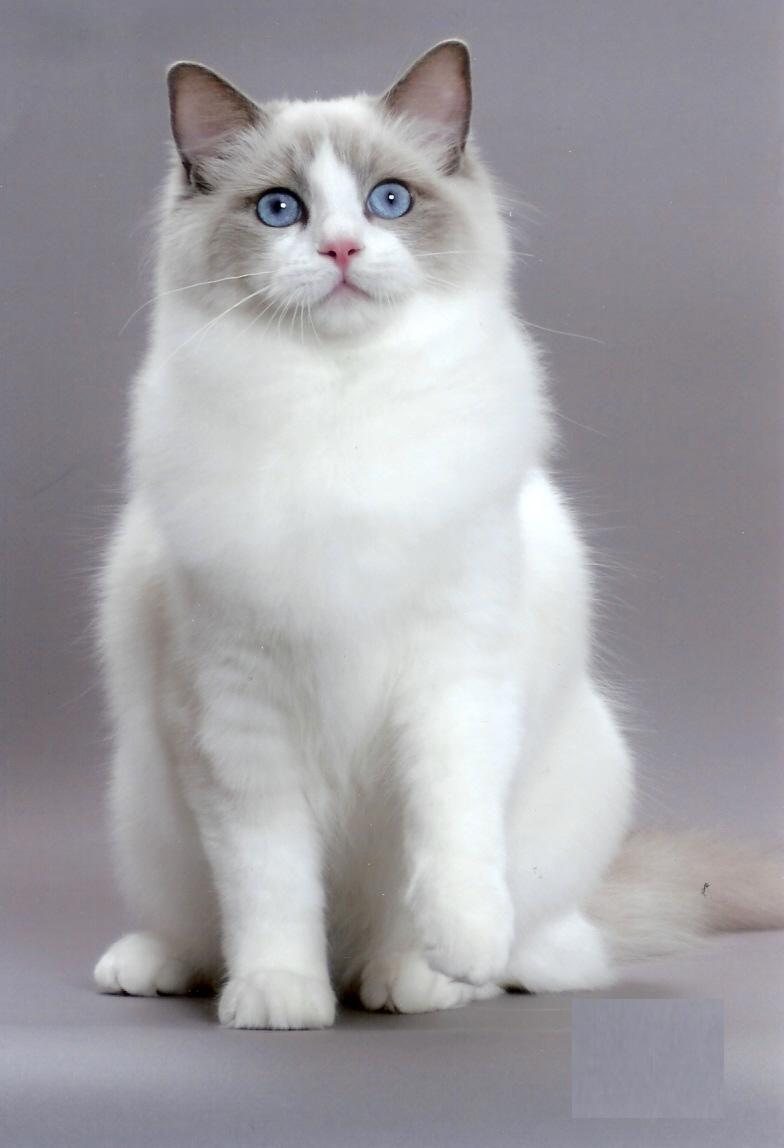ragdoll: (159, 38, 491, 358)
